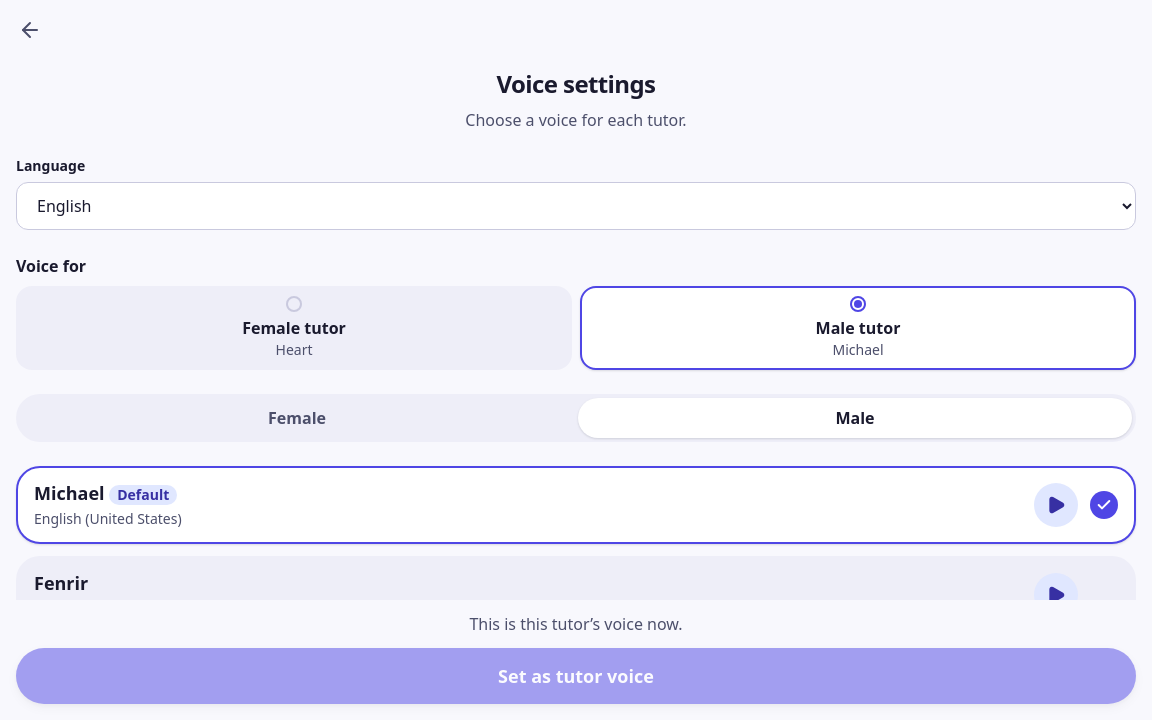
Test: VoiceSettingsPage › says so for a language the server has no voices for yet
Select "தமிழ்" in the dropdown labelled "Language": (576, 206) [16,182,1136,230]
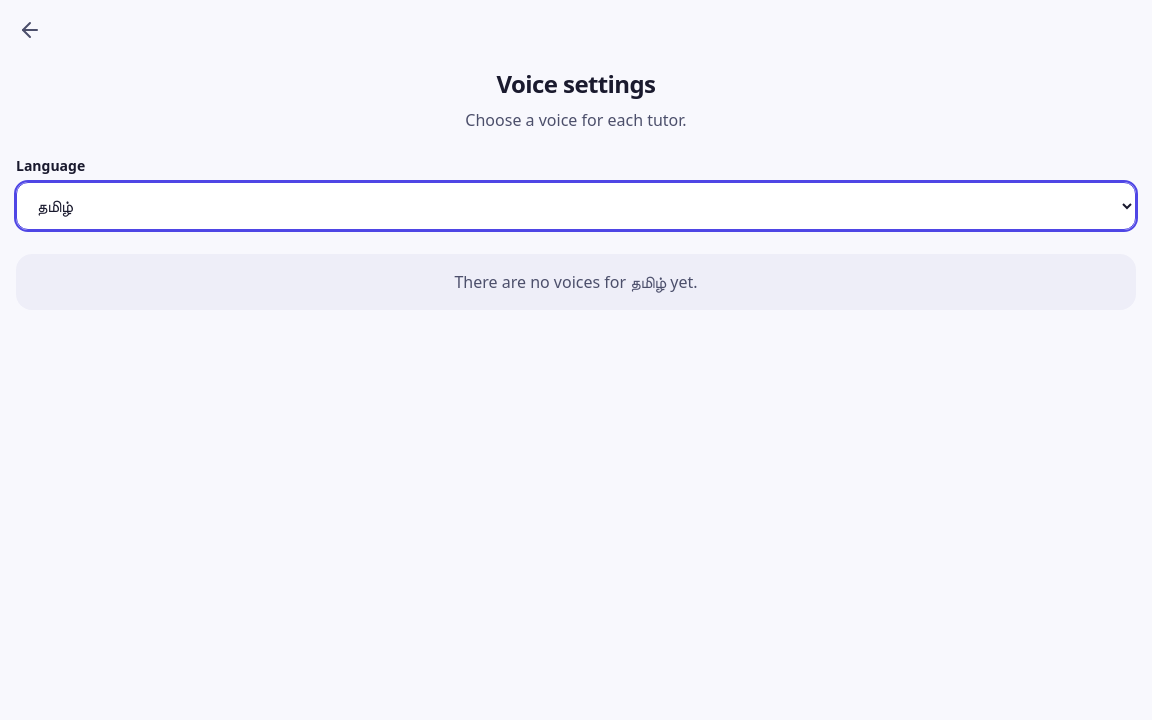
Expected: the text "There are no voices for தமிழ் yet." is shown, [16,254,1136,310]
Expected: the button "Set as tutor voice" is gone
